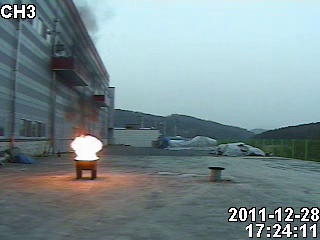fire: (68, 131, 104, 160)
